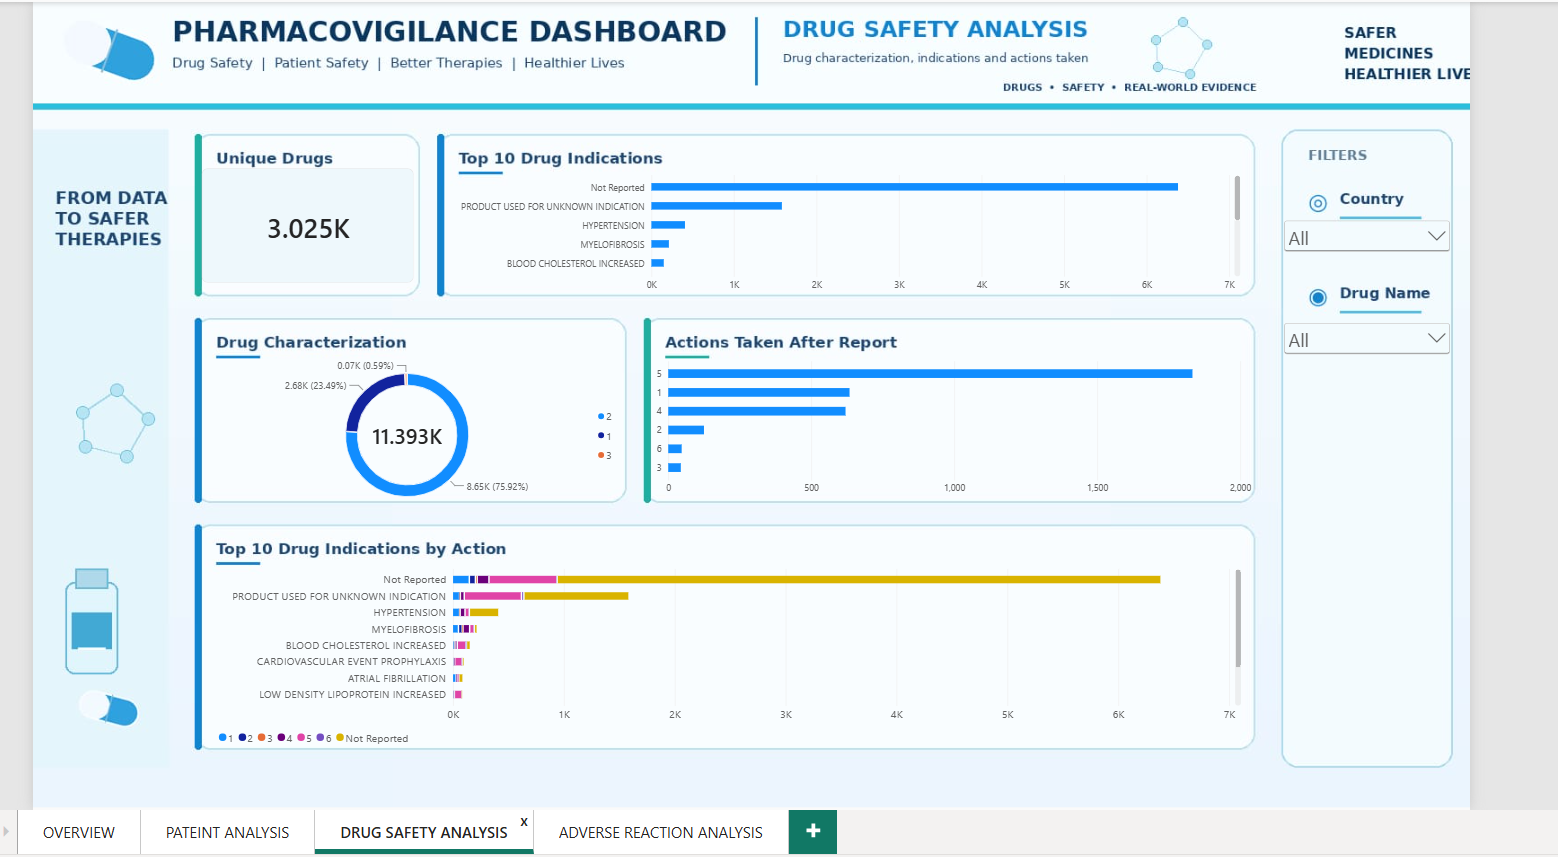

This screenshot's page, from the dashboard's own definition file:
{"tool":"powerbi","page":{"name":"DRUG SAFETY ANALYSIS","canvas":[1920,1080],"ordinal":2},"visuals":[{"type":"cardVisual","title":"UNIQUE DRUGS","fields":{"Data":["Count(Drugs.drug_name)"]},"box":[225.1,222.9,283.5,153.7],"z":1000},{"type":"donutChart","title":"DRUG CHARACTERIZATION","fields":{"Category":["Drugs.drug_characterization"],"Y":["CountNonNull(Drugs.drug_name)"]},"box":[247.1,472.5,535.3,211.8],"z":2000},{"type":"clusteredBarChart","title":"ACTIONS TAKEN AFTER REPORT","fields":{"Category":["Drugs.drug_action_taken"],"Y":["CountNonNull(Drugs.drug_name)"]},"box":[831.4,472.5,796.1,190.2],"z":3000},{"type":"clusteredBarChart","title":"TOP 10 DRUG INDICATIONS","fields":{"Category":["Drugs.drug_indication"],"Y":["CountNonNull(Drugs.drug_name)"]},"box":[556.9,223.5,1056.9,166.7],"z":4000},{"type":"slicer","title":"COUNTRY","fields":{"Values":["Reports.Country Full"]},"box":[1666.4,287.8,231.6,88.7],"z":5000},{"type":"slicer","title":"DRUG NAME","fields":{"Values":["Drugs.drug_name"]},"box":[1666.4,424.2,231.6,309.5],"z":6000},{"type":"barChart","title":"TOP 10 DRUG INDICATIONS ","fields":{"Category":["Drugs.drug_indication"],"Series":["Drugs.drug_action_taken"],"Y":["CountNonNull(Drugs.drug_name)"]},"box":[247.1,749,1366.7,247.1],"z":7000}]}

Visuals, with their boxes on the page's 1920x1080 design canvas (x1, y1, x2, y2). These are canvas units, not pixel positions in the 1558x857 screenshot, which may show the page scaled, cropped or inside an application window:
"UNIQUE DRUGS" cardVisual: (225,223,509,377)
"DRUG CHARACTERIZATION" donutChart: (247,472,782,684)
"ACTIONS TAKEN AFTER REPORT" clusteredBarChart: (831,472,1628,663)
"TOP 10 DRUG INDICATIONS" clusteredBarChart: (557,224,1614,390)
"COUNTRY" slicer: (1666,288,1898,376)
"DRUG NAME" slicer: (1666,424,1898,734)
"TOP 10 DRUG INDICATIONS " barChart: (247,749,1614,996)
